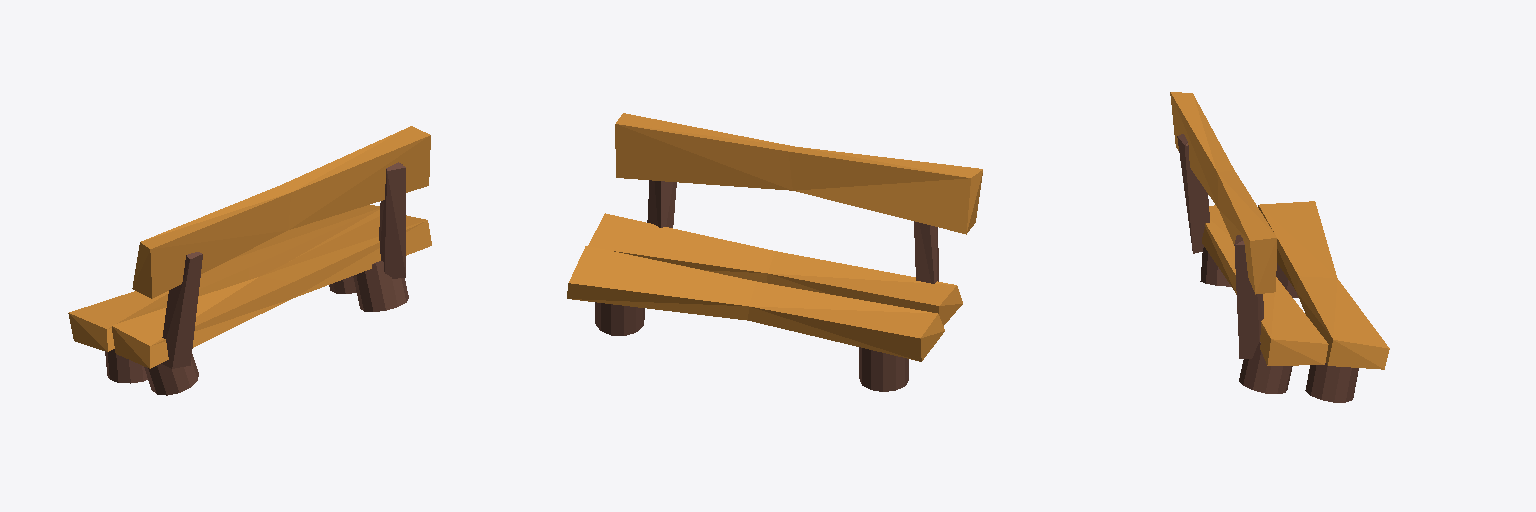
3 renders of one model, left to right at view 1: azimuth 30°, elevation 25°; view 2: azimuth 150°, elevation 25°; view 3: azimuth 270°, elevation 25°, orthographic.
Parts seen in each view (by area): view 1: group[number redacted], group[number redacted], group[number redacted], group[number redacted], group[number redacted], group[number redacted], group[number redacted], group[number redacted]; view 2: group[number redacted], group[number redacted], group[number redacted], group[number redacted], group[number redacted], group[number redacted], group[number redacted]; view 3: group[number redacted], group[number redacted], group[number redacted], group[number redacted], group[number redacted], group[number redacted], group[number redacted], group[number redacted].
Part boxes in pixels (left/top/right/bottom): group[number redacted]: left=132, top=126, right=430, bottom=298; group[number redacted]: left=112, top=215, right=431, bottom=368; group[number redacted]: left=68, top=205, right=379, bottom=351; group[number redacted]: left=161, top=252, right=202, bottom=368; group[number redacted]: left=379, top=162, right=405, bottom=278; group[number redacted]: left=353, top=261, right=408, bottom=311; group[number redacted]: left=144, top=354, right=198, bottom=395; group[number redacted]: left=105, top=349, right=147, bottom=383; group[number redacted]: left=615, top=113, right=982, bottom=234; group[number redacted]: left=567, top=246, right=944, bottom=361; group[number redacted]: left=588, top=213, right=962, bottom=325; group[number redacted]: left=859, top=347, right=908, bottom=391; group[number redacted]: left=595, top=302, right=644, bottom=335; group[number redacted]: left=914, top=221, right=938, bottom=283; group[number redacted]: left=647, top=180, right=676, bottom=227; group[number redacted]: left=1258, top=201, right=1389, bottom=369; group[number redacted]: left=1170, top=92, right=1276, bottom=294; group[number redacted]: left=1202, top=205, right=1328, bottom=365; group[number redacted]: left=1234, top=235, right=1263, bottom=358; group[number redacted]: left=1177, top=134, right=1209, bottom=253; group[number redacted]: left=1305, top=363, right=1358, bottom=402; group[number redacted]: left=1239, top=342, right=1292, bottom=393; group[number redacted]: left=1200, top=247, right=1230, bottom=286.
Size of the model in its own units: 0.9418 by 0.4947 by 0.5271.